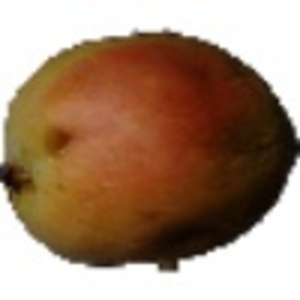mamão: (9, 23, 292, 269)
